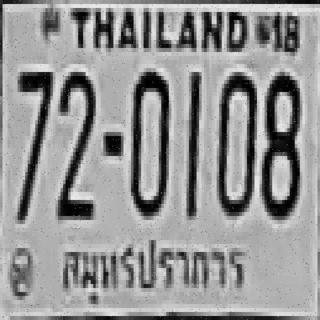N00: (129, 70, 169, 214), (217, 68, 254, 212)
N01: (185, 72, 200, 216)
N02: (56, 68, 94, 216)
N07: (15, 68, 50, 220), (18, 68, 50, 196)
N08: (260, 72, 300, 216)
P57: (56, 238, 252, 309)
